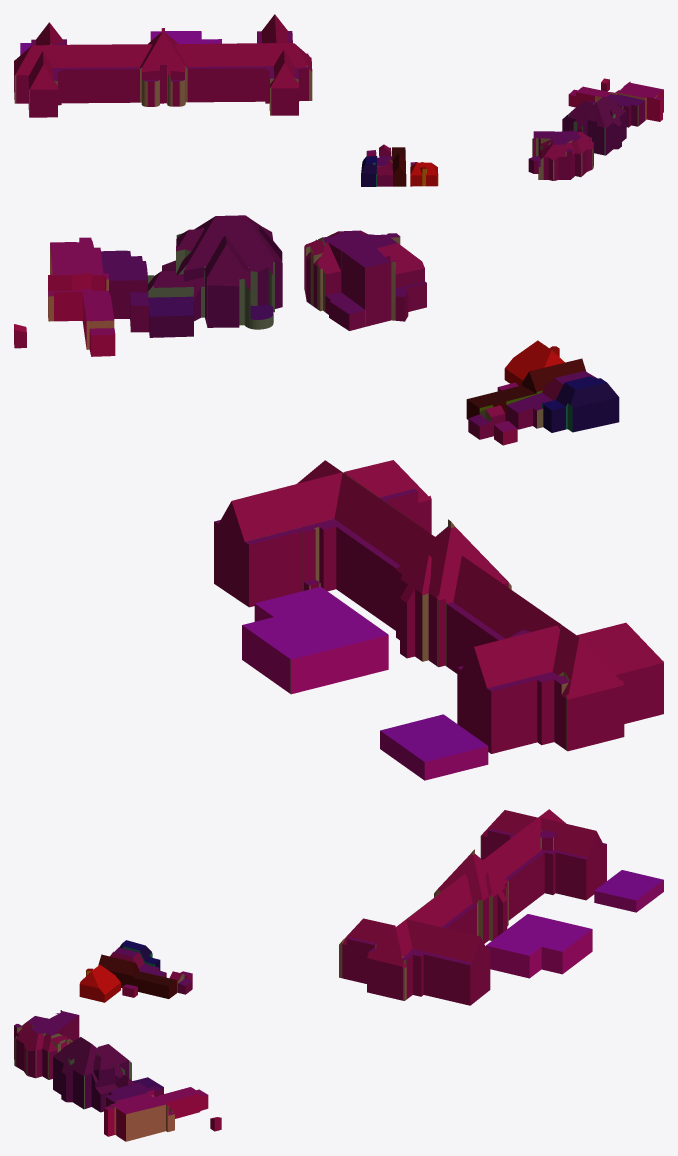
Rendered from buildings_4_12.glb.
The picture shows the model from 3 angles, top to bottom: view 1: azimuth 30°, elevation 25°; view 2: azimuth 150°, elevation 25°; view 3: azimuth 270°, elevation 25°; orthographic projection. The views are drawn at different scales.
Parts seen in each view (by area): view 1: buildings_4_12; view 2: buildings_4_12; view 3: buildings_4_12.
Boxes of the visible parts, x1,y1,x2,y2 form: buildings_4_12: [14, 14, 663, 186]; buildings_4_12: [14, 215, 663, 780]; buildings_4_12: [14, 809, 663, 1141].
Size of the model in its own units: 168 by 22.13 by 162.
